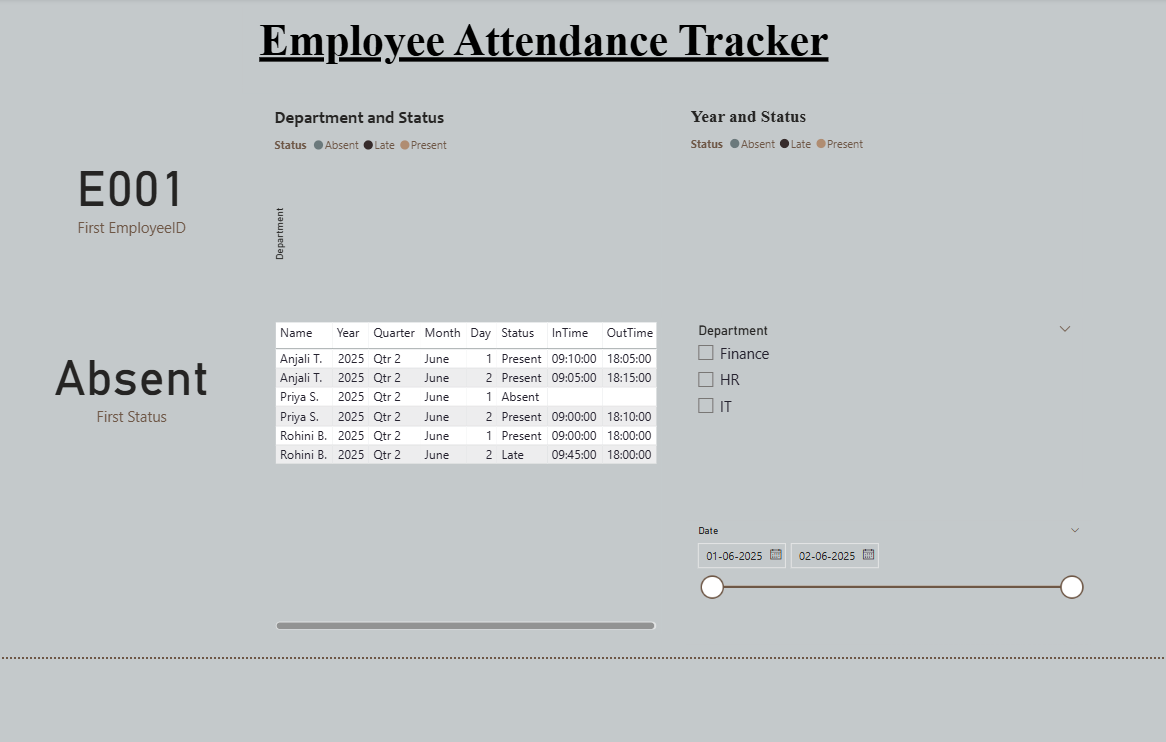

Layout of this report page (visuals, bound fields, positions):
{"tool":"powerbi","page":{"name":"Page 1","canvas":[1280,720],"ordinal":0},"visuals":[{"type":"card","fields":{"Values":["Sheet1.EmployeeID"]},"box":[9.6,118.9,280.1,187.2],"z":0},{"type":"card","fields":{"Values":["Sheet1.Status"]},"box":[10,339.5,280,161],"z":1},{"type":"clusteredBarChart","fields":{"Category":["Sheet1.Department"],"Series":["Sheet1.Status"]},"box":[300.6,118.9,427.7,220],"z":3},{"type":"lineChart","fields":{"Category":["Sheet1.Date.Variation.Date Hierarchy.Year","Sheet1.Date.Variation.Date Hierarchy.Quarter","Sheet1.Date.Variation.Date Hierarchy.Month","Sheet1.Date.Variation.Date Hierarchy.Day"],"Series":["Sheet1.Status"]},"box":[755.6,118.9,433.1,220],"z":4},{"type":"tableEx","fields":{"Values":["Sheet1.Name","Sheet1.Date.Variation.Date Hierarchy.Year","Sheet1.Date.Variation.Date Hierarchy.Quarter","Sheet1.Date.Variation.Date Hierarchy.Month","Sheet1.Date.Variation.Date Hierarchy.Day","Sheet1.Status","Sheet1.InTime","Sheet1.OutTime"]},"box":[300.6,349.8,427.7,345.7],"z":5},{"type":"slicer","fields":{"Values":["Sheet1.Department"]},"box":[755.6,349.8,433.1,185.8],"z":6},{"type":"slicer","fields":{"Values":["Sheet1.Date"]},"box":[755.6,571.1,442.7,135.3],"z":7},{"type":"textbox","box":[270.5,9.6,789.8,94.3],"z":8}]}

Visuals, with their boxes on the page's 1280x720 design canvas (x1, y1, x2, y2). These are canvas units, not pixel positions in the 1166x742 screenshot, which may show the page scaled, cropped or inside an application window:
card - Sheet1.EmployeeID: x1=10 y1=119 x2=290 y2=306
card - Sheet1.Status: x1=10 y1=340 x2=290 y2=500
clusteredBarChart - Sheet1.Department x Sheet1.Status: x1=301 y1=119 x2=728 y2=339
lineChart - Sheet1.Date.Variation.Date Hierarchy.Year x Sheet1.Date.Variation.Date Hierarchy.Quarter: x1=756 y1=119 x2=1189 y2=339
tableEx - Sheet1.Name x Sheet1.Date.Variation.Date Hierarchy.Year: x1=301 y1=350 x2=728 y2=696
slicer - Sheet1.Department: x1=756 y1=350 x2=1189 y2=536
slicer - Sheet1.Date: x1=756 y1=571 x2=1198 y2=706
textbox: x1=270 y1=10 x2=1060 y2=104
